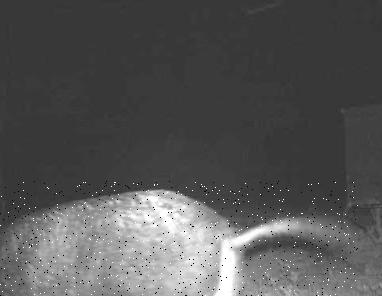Hog: (0, 181, 358, 296)
